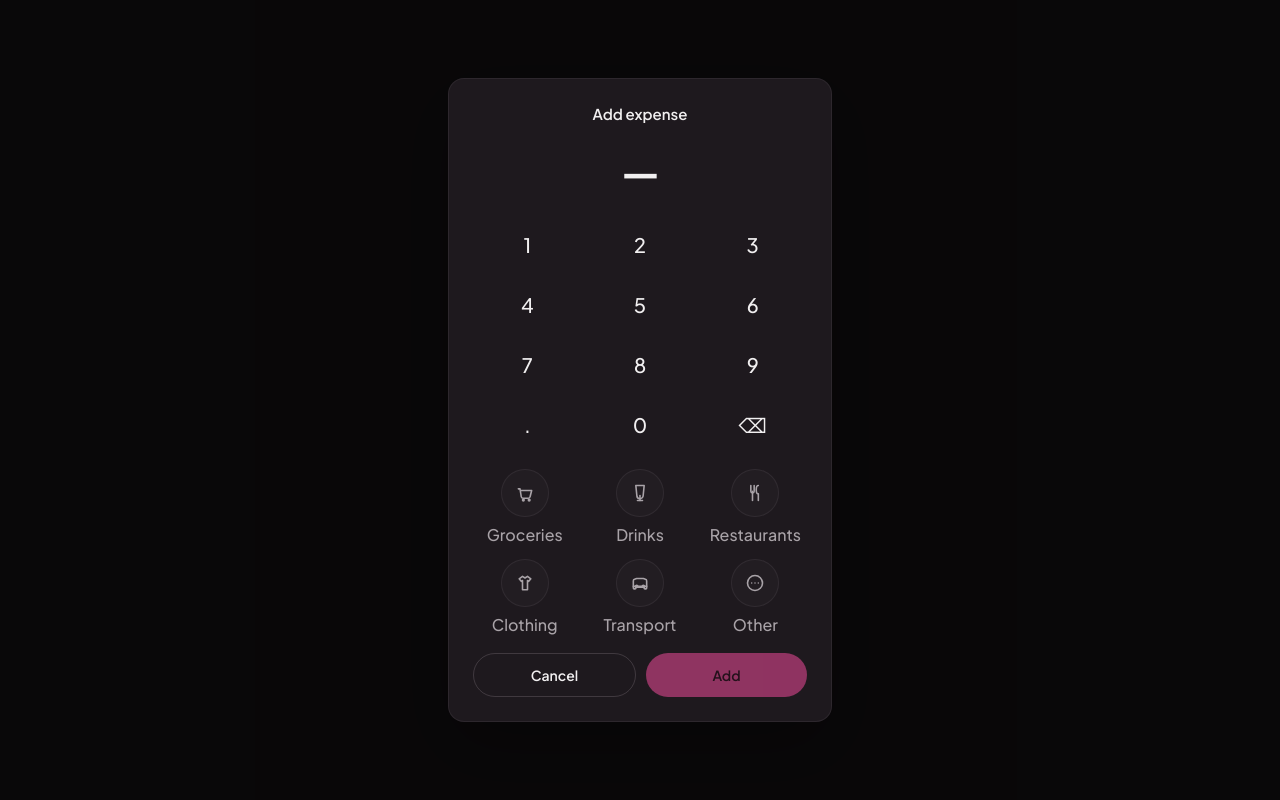
Test case: AddExpenseModal › shows the translated error and keeps the draft when the action fails
Step 1. Click the button "5" → coordinates (640, 305), box [586, 277, 694, 333]
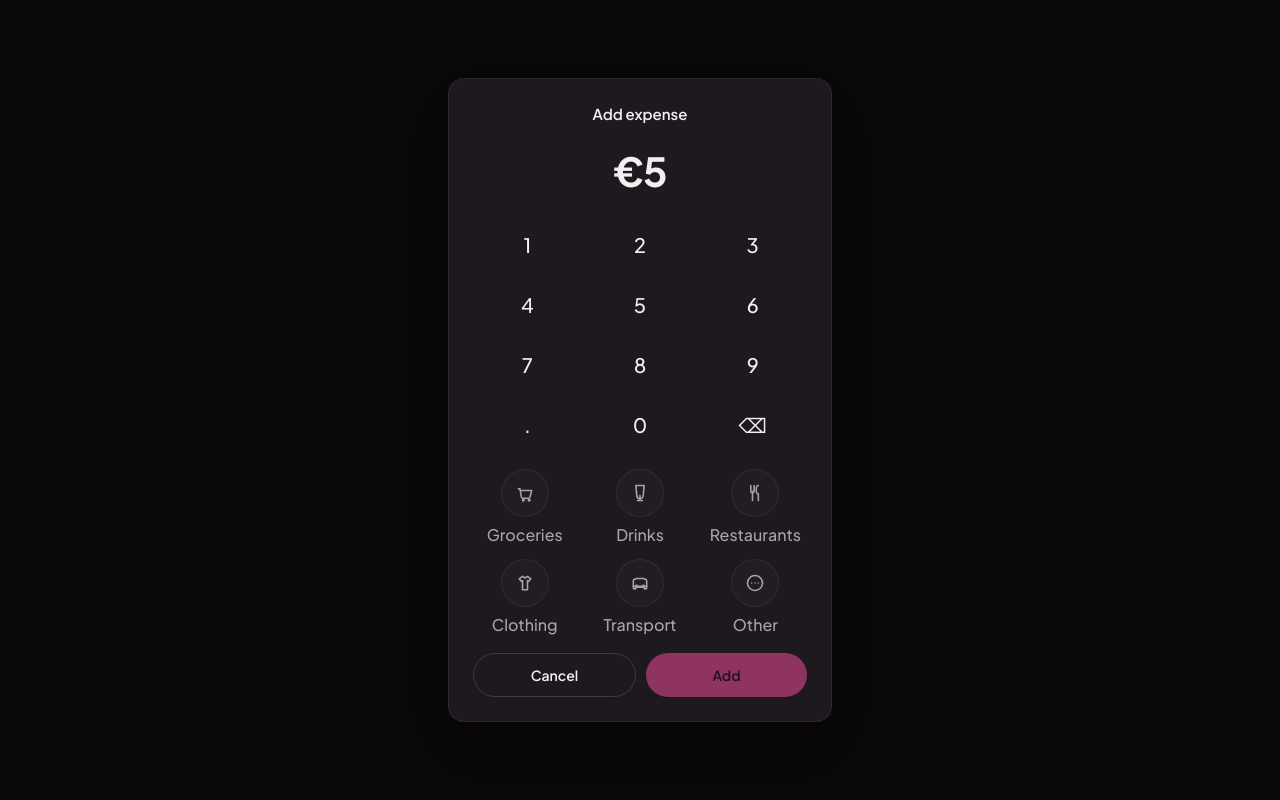
Step 2. Click the button "Groceries" → coordinates (525, 508), box [473, 469, 576, 547]
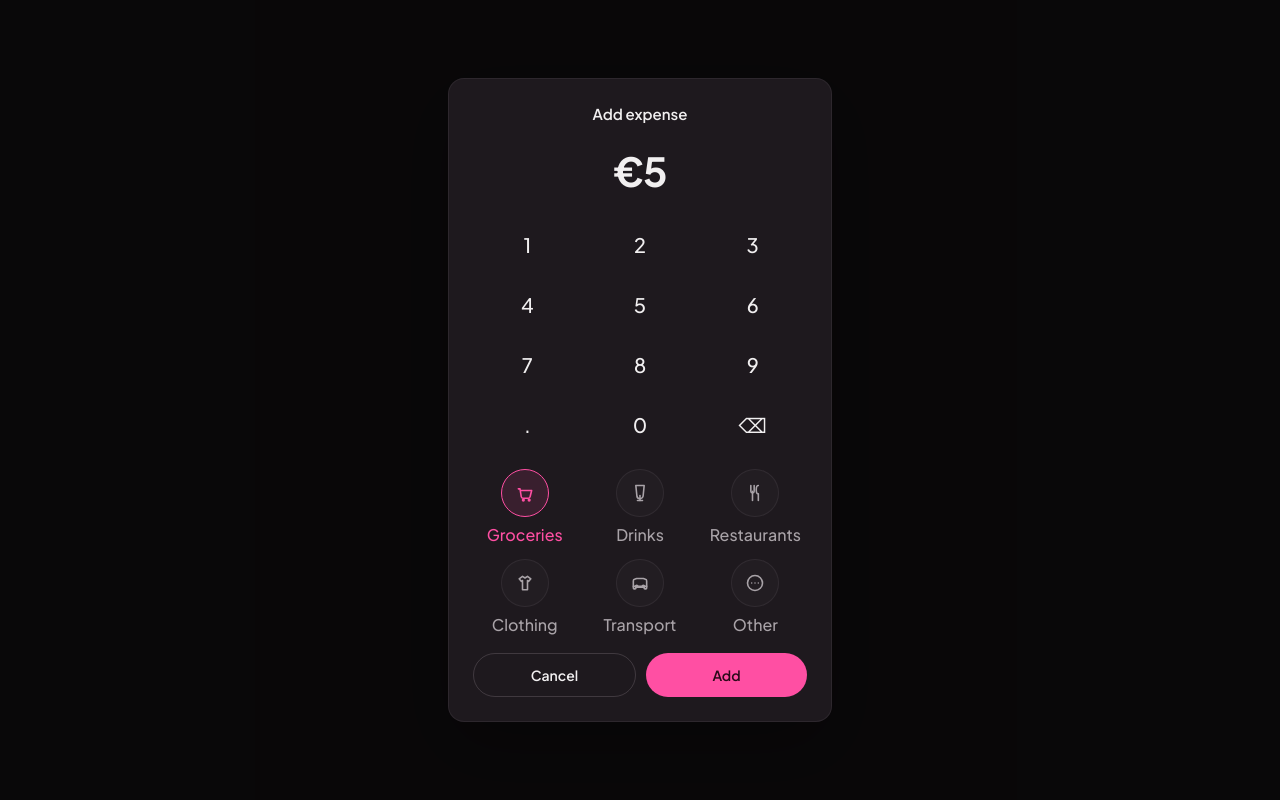
Step 3. Click the button "Add" → coordinates (726, 675), box [646, 653, 807, 697]
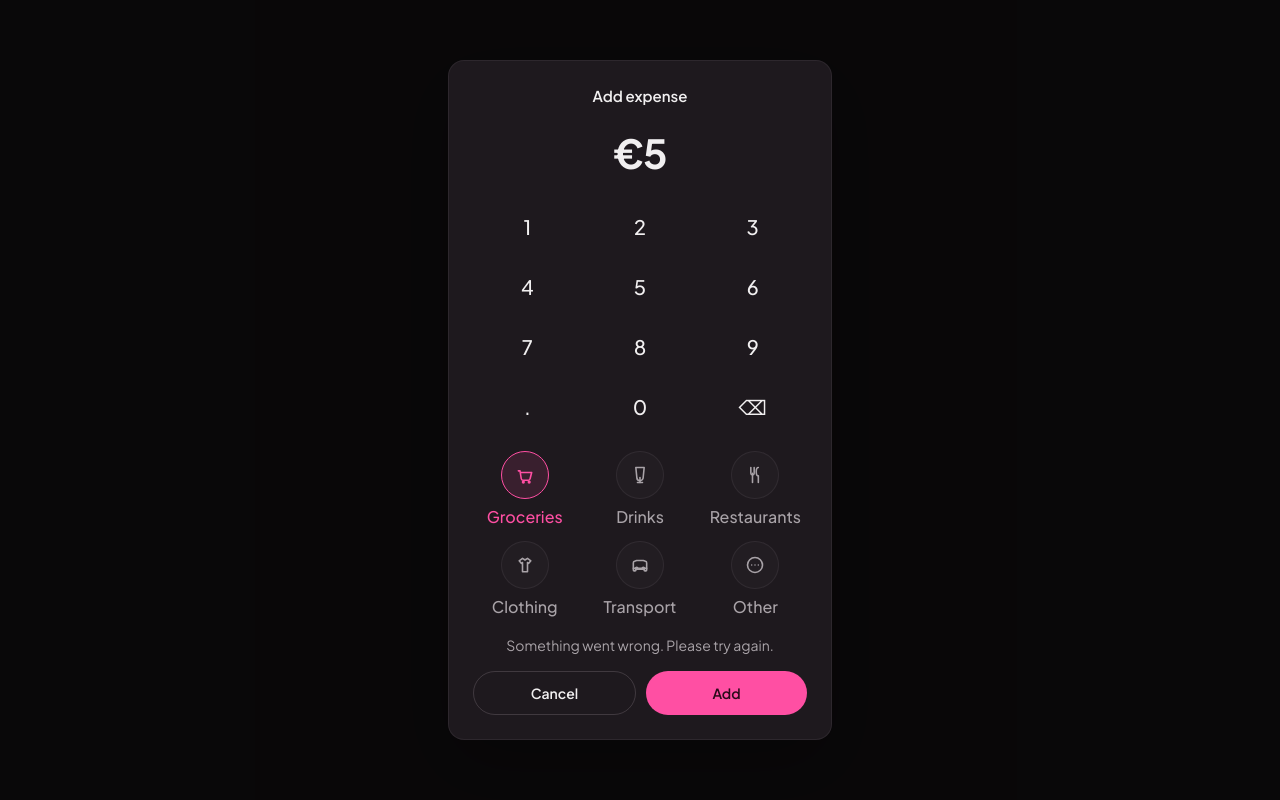
Expected: the message reads "Something went wrong. Please try again.", [506, 636, 774, 654]
